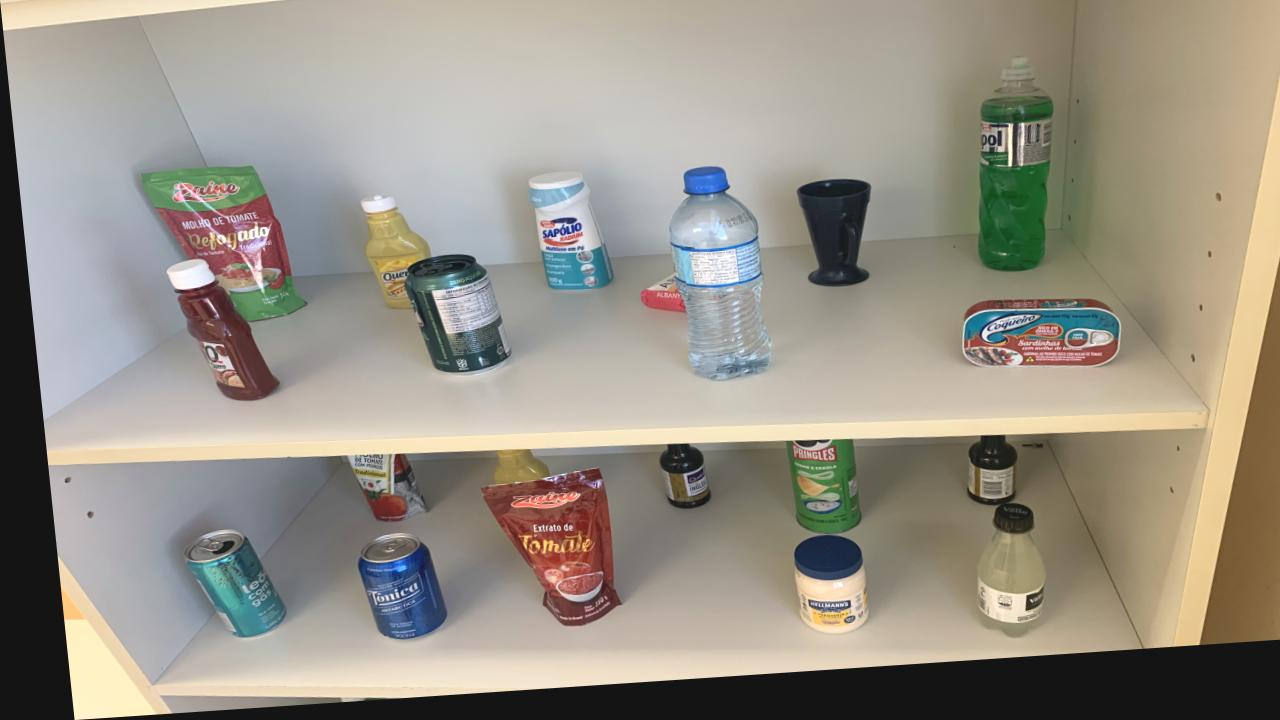Cleaner-Cleanup_Items: (523, 179, 606, 297)
Detergent-Cleanup_Items: (972, 71, 1050, 285), (1070, 337, 1072, 341)
English_Sauce-Pantry_Items: (955, 448, 1006, 518), (648, 452, 699, 517)
Guarana_Can-Drinks: (398, 260, 502, 381)
Ketchup-Pantry_Items: (160, 261, 270, 404)
Mayonnaise-Pantry_Items: (781, 545, 854, 645)
Mustard-Pantry_Items: (356, 200, 426, 315), (483, 456, 539, 490)
Pringles-Snacks: (775, 450, 849, 545)
Soap-Cleanup_Items: (632, 283, 679, 321)
Soda-Drinks: (963, 516, 1032, 650)
Tea-Drinks: (171, 533, 274, 640)
Tomato_Sauce-Pantry_Items: (138, 169, 299, 324), (470, 476, 607, 634), (337, 458, 414, 527)
Tonic-Drinks: (345, 538, 432, 645)
Tuna_Can-Pantry_Items: (953, 313, 1113, 381)
Water_Bottle-Drinks: (663, 176, 763, 390)
